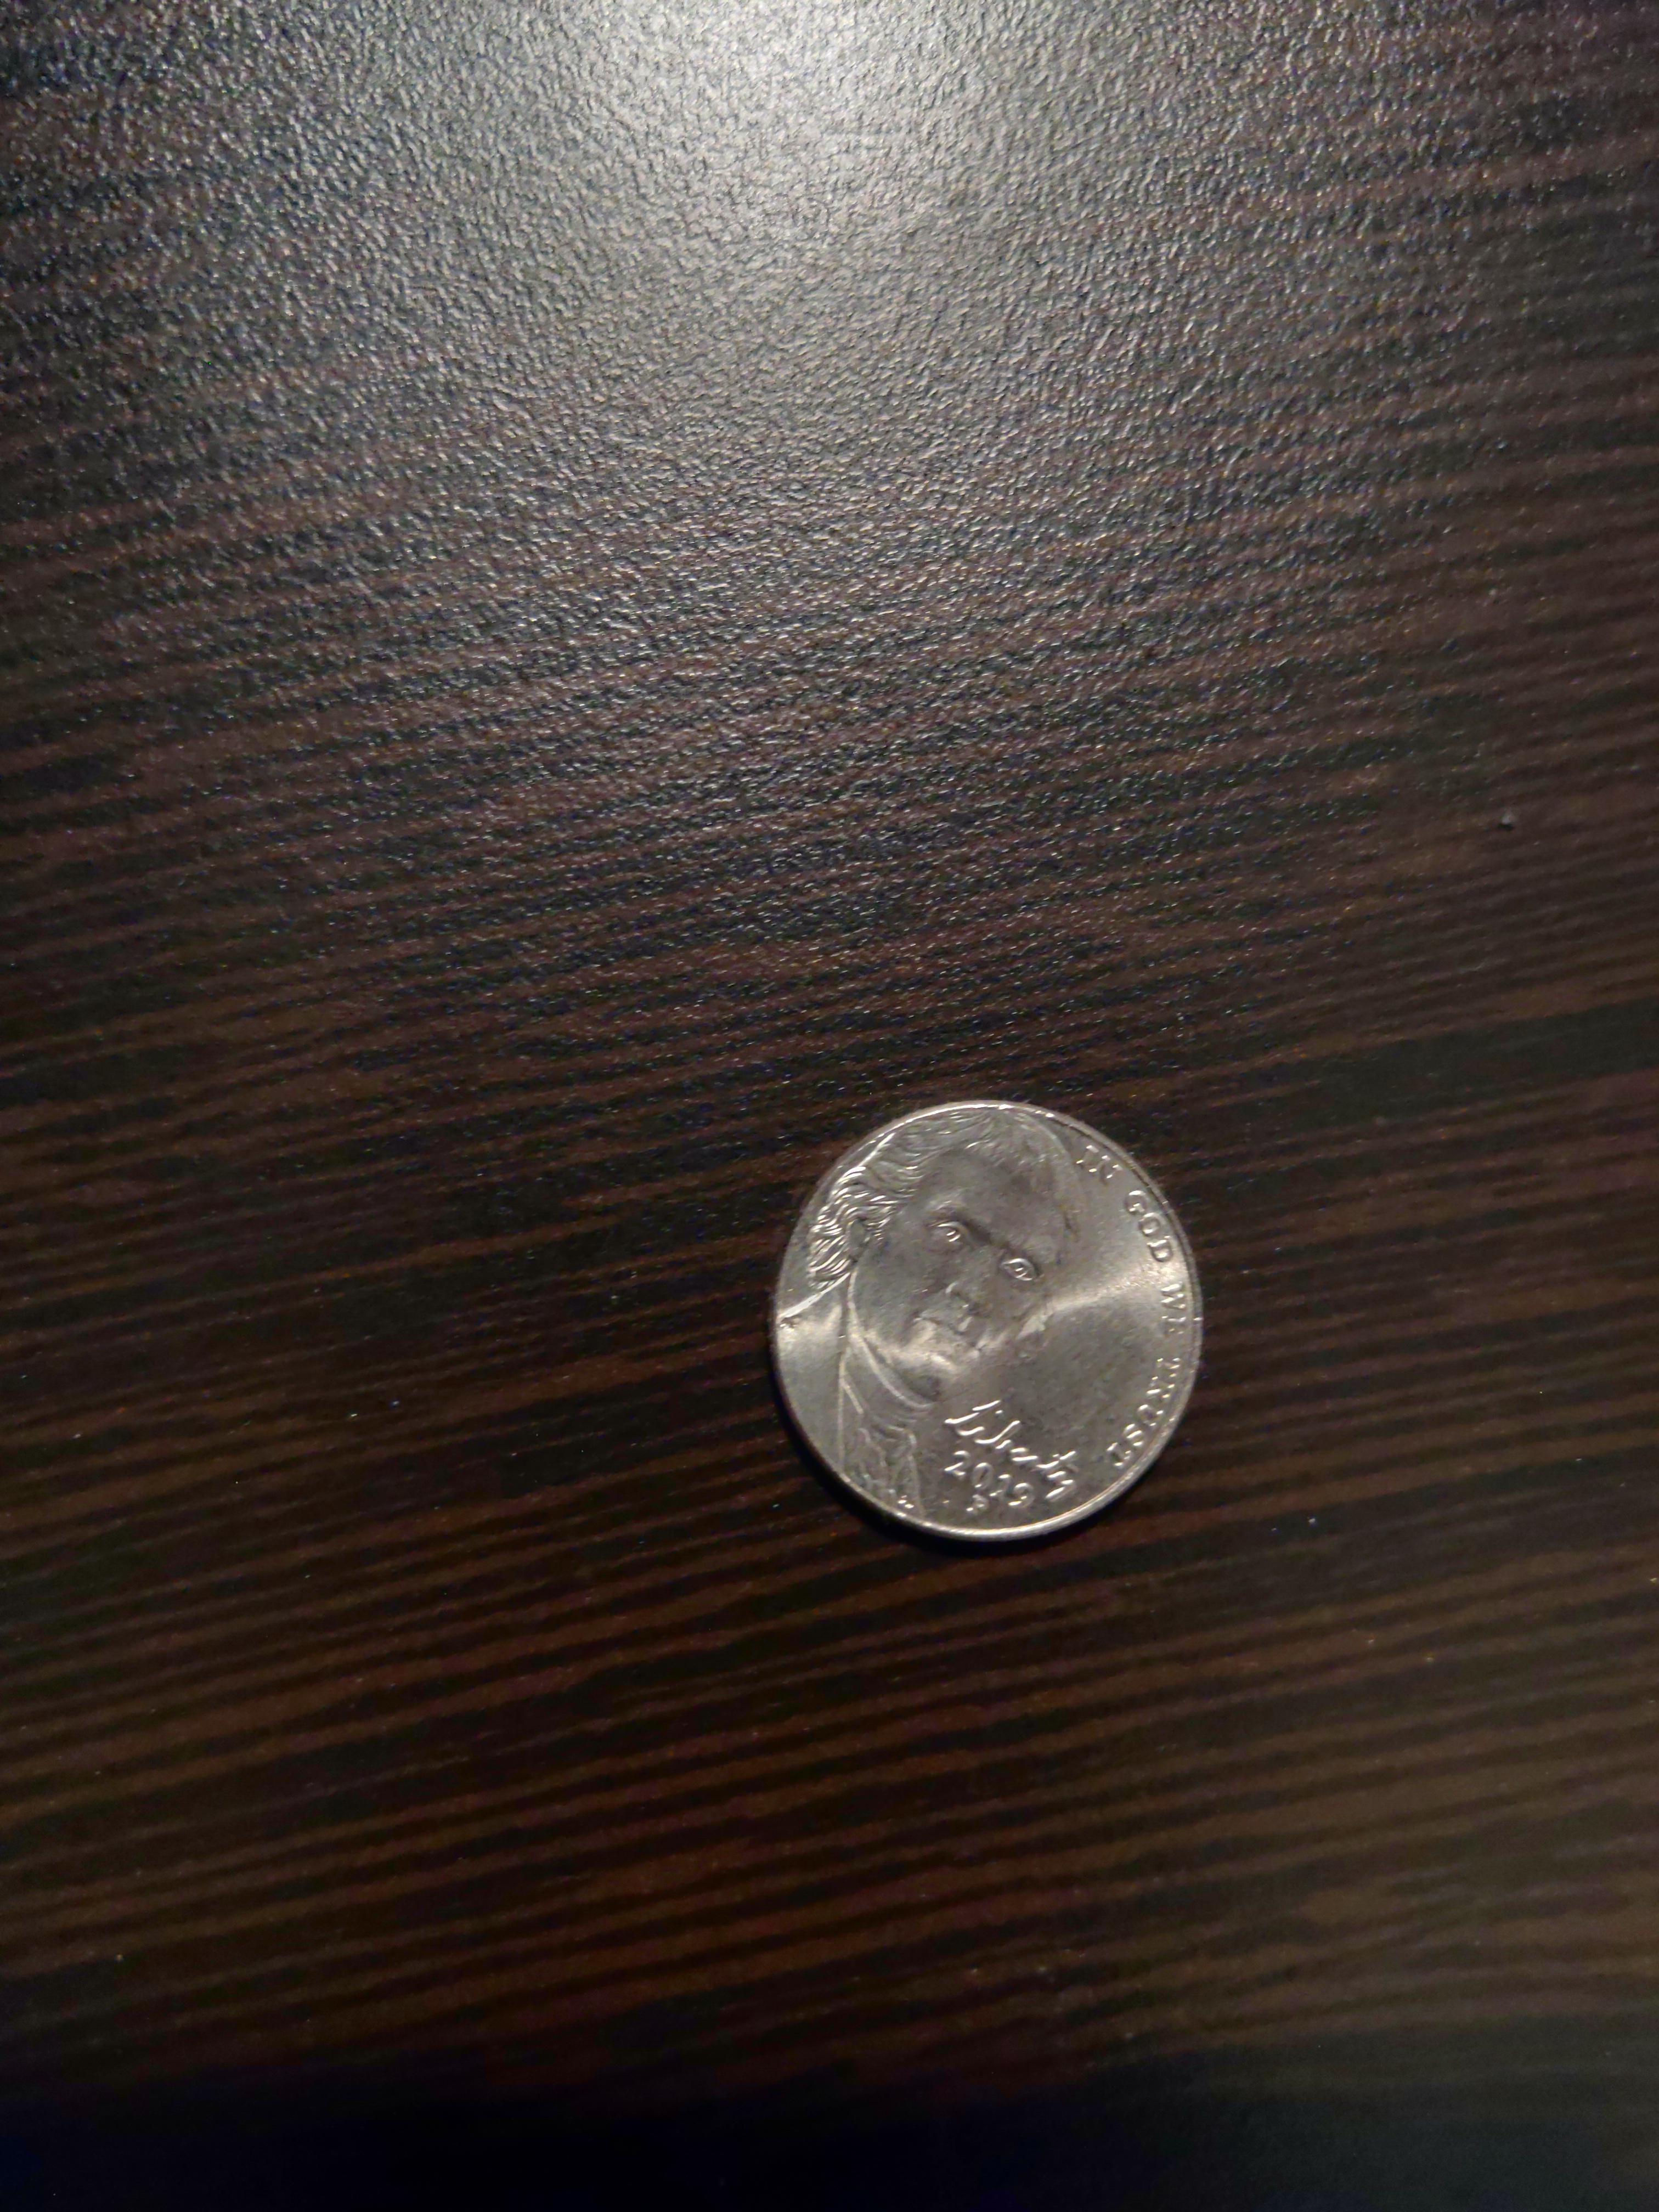Nickel: (765, 1092, 1206, 1545)
